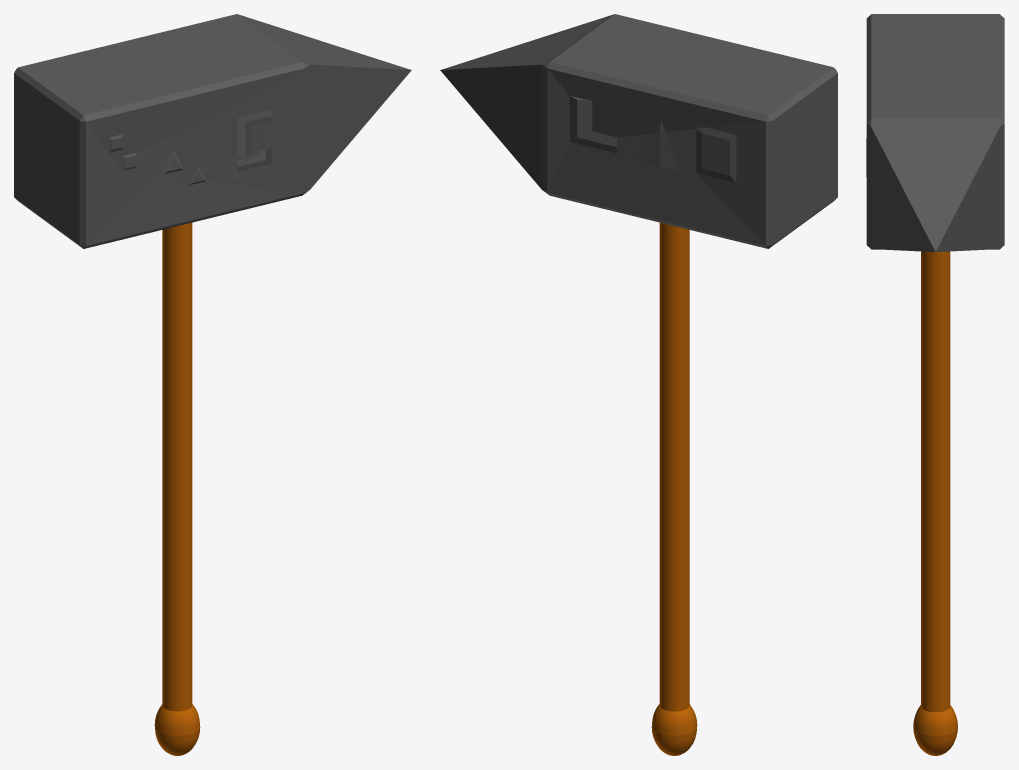
File: MazoDeElectricidad.fbx
3 views of the same model, side by side, from view 1: azimuth 30°, elevation 25°; view 2: azimuth 150°, elevation 25°; view 3: azimuth 270°, elevation 25° (orthographic). The views are drawn at different scales.
Visible parts, largest first — view 1: Cube, Cylinder; view 2: Cube, Cylinder; view 3: Cube, Cylinder.
Boxes of the visible parts, box(x1,y1,x2,y2) form: Cube: box(14, 14, 411, 248); Cylinder: box(154, 222, 200, 755); Cube: box(440, 14, 837, 248); Cylinder: box(651, 222, 697, 755); Cube: box(866, 14, 1004, 251); Cylinder: box(913, 251, 957, 755).
Size of the model in its own units: 2062 by 3746 by 691.
